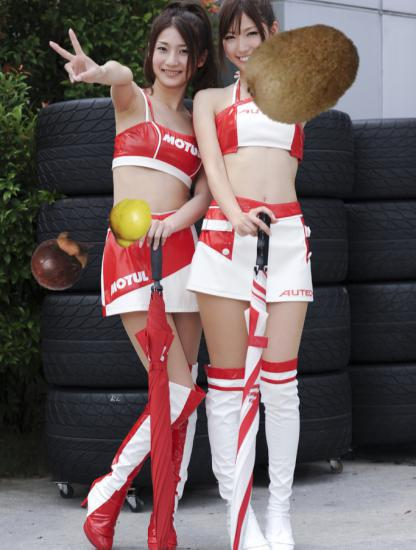Kiwi: (243, 12, 361, 130)
Mangostan: (28, 226, 96, 294)
Quince: (103, 197, 155, 249)
